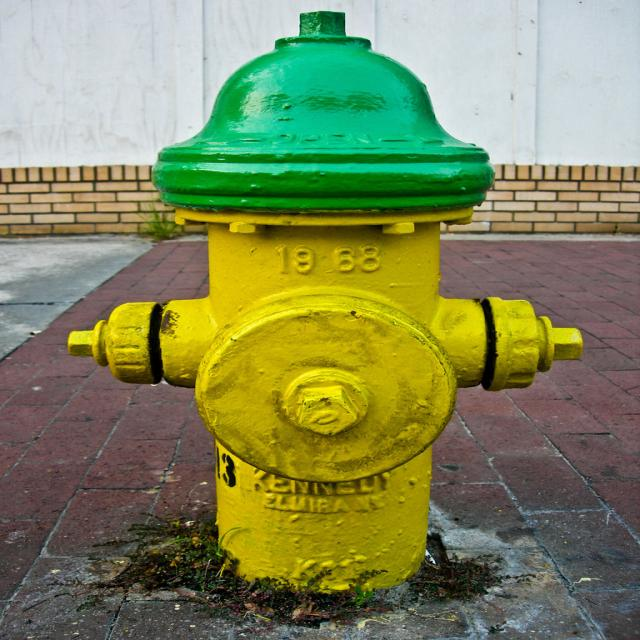fire_hydrant: (67, 9, 586, 594)
